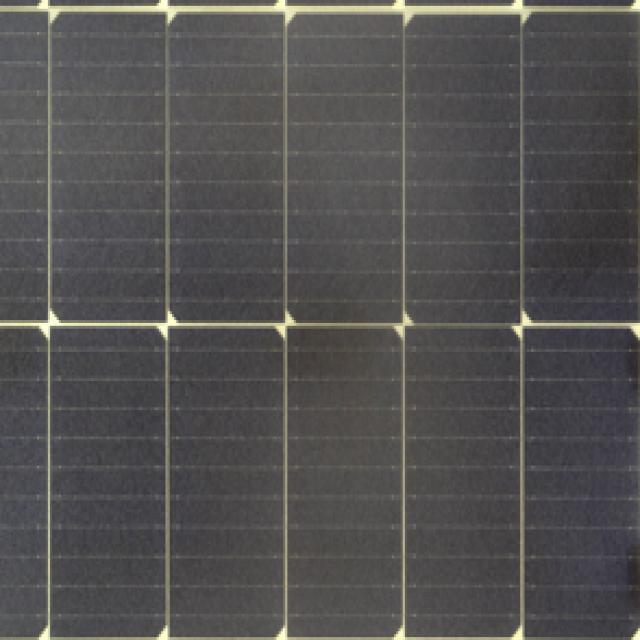CELL SHORT: (414, 306, 522, 350), (291, 312, 394, 353)
